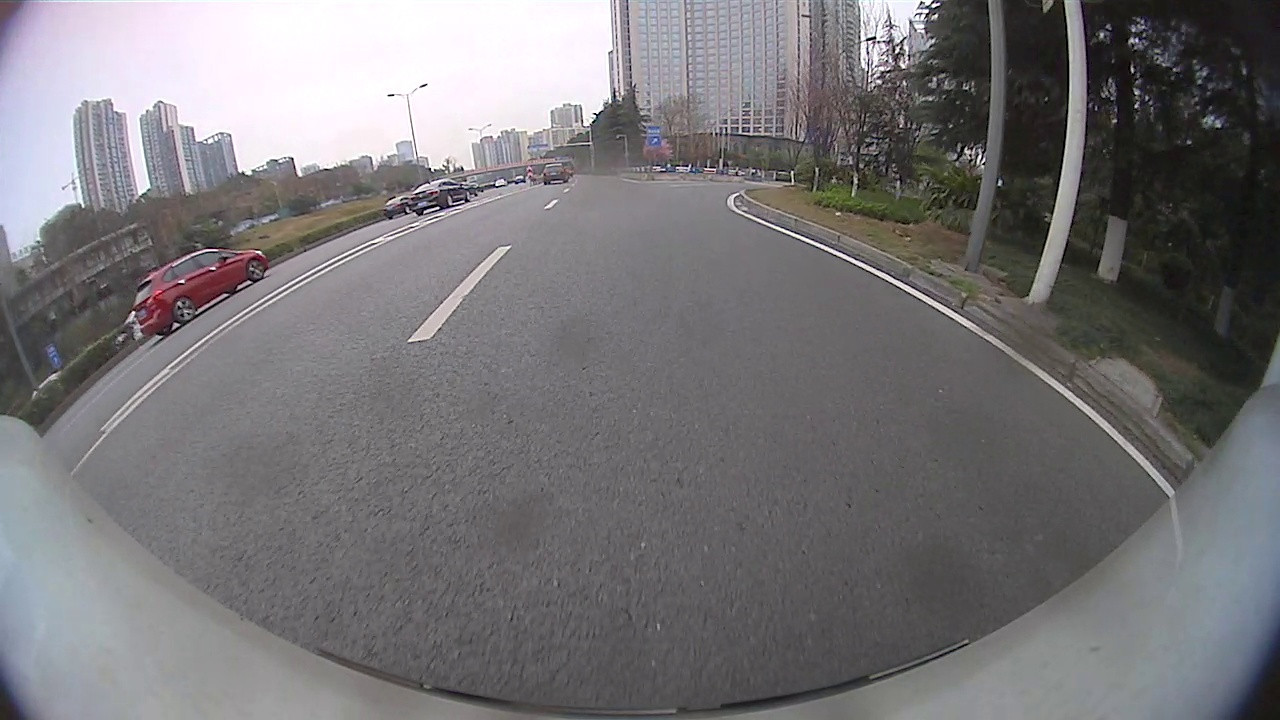car: (131, 246, 271, 336), (409, 176, 471, 215), (381, 194, 415, 221), (124, 308, 144, 342), (541, 162, 568, 184)
front: (246, 258, 266, 282)
rear: (171, 295, 196, 326)
